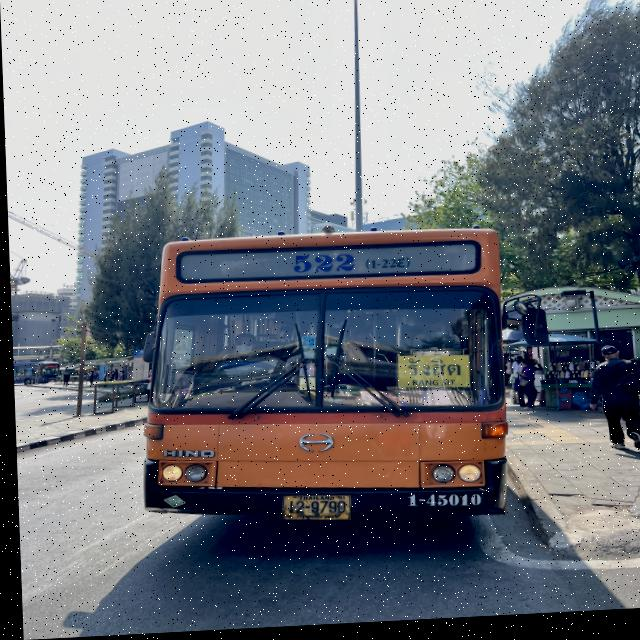BMTA-bus: (132, 229, 509, 538)
Bus-Line-Number: (288, 250, 413, 282)
Destination-Sign-Normal-Expressway: (394, 356, 469, 395)
